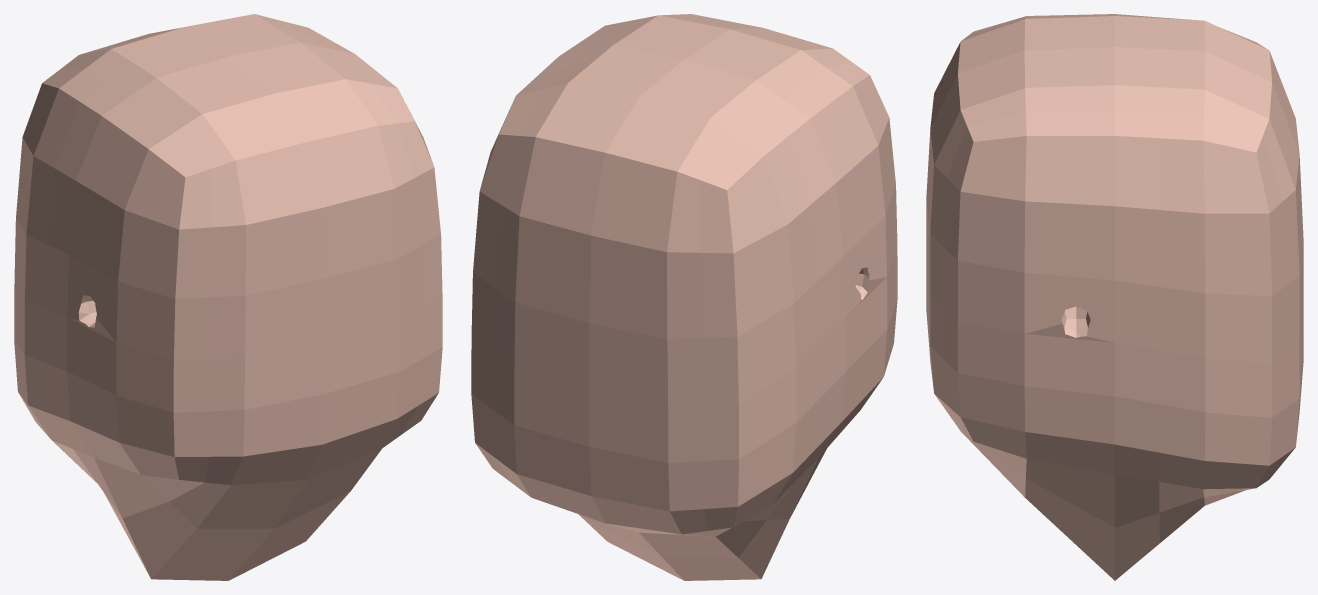
The model's file is newHead.fbx.
3 views of the same model, side by side, from view 1: azimuth 30°, elevation 25°; view 2: azimuth 150°, elevation 25°; view 3: azimuth 270°, elevation 25° (orthographic).
Parts seen in each view (by area): view 1: head; view 2: head; view 3: head.
Part boxes in pixels (x1=…): head: x1=14, y1=14, x2=442, y2=580; head: x1=471, y1=14, x2=897, y2=580; head: x1=926, y1=14, x2=1303, y2=580.
Size of the model in its own units: 4880 by 4817 by 7380.
